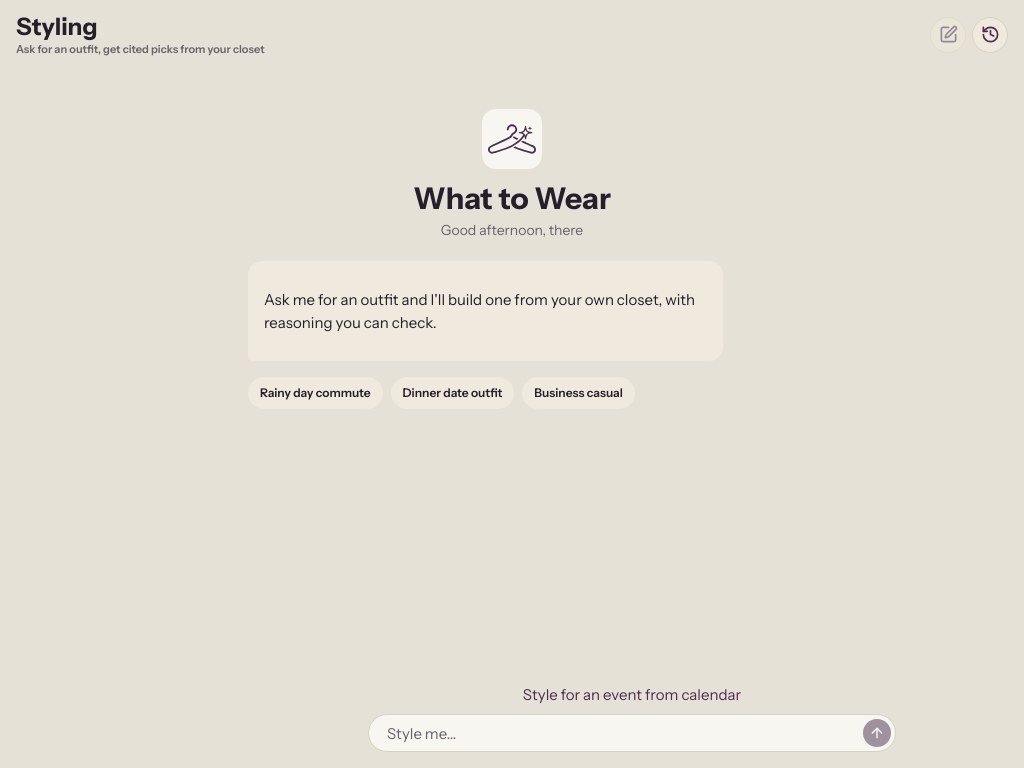
Scenario: RecommendPage › New chat becomes enabled after a message is sent, and resets the thread on click
The width and height of the screenshot is (1024, 768).
Type "business casual" into the field named "Message".
click(620, 733); type("business casual")  # box [385,722,855,744]
Then press Enter
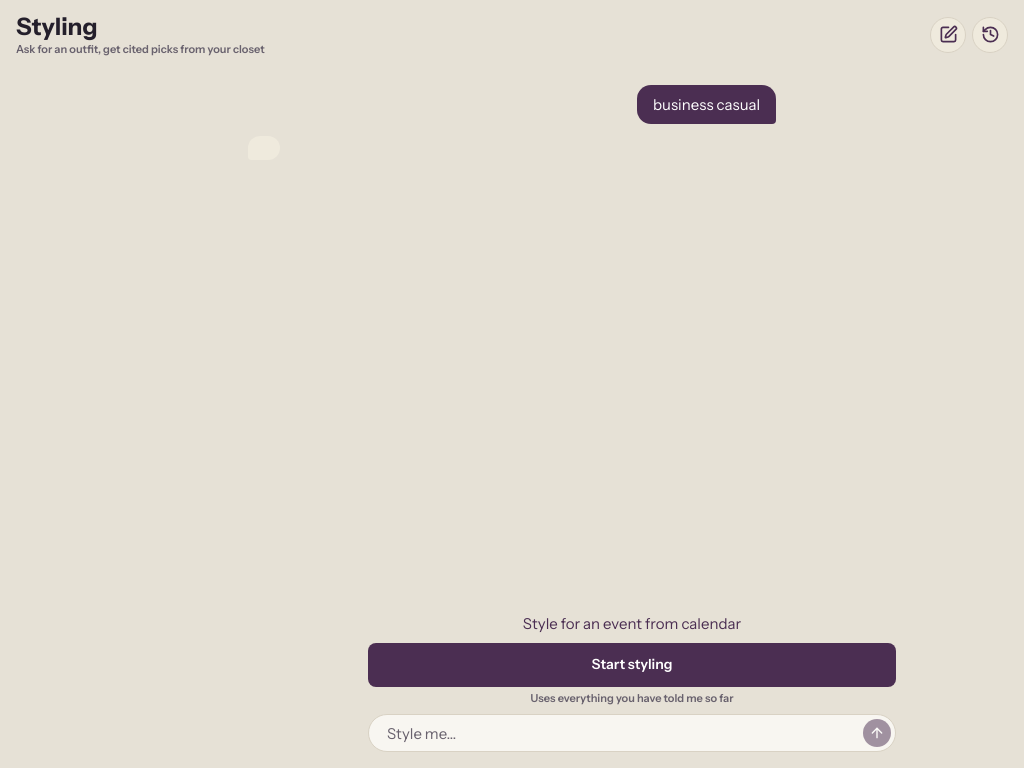
Check: the button named "New chat" is enabled, box [930,16,966,52]
Click the button "Start styling".
click(632, 665)  # box [368,643,896,687]
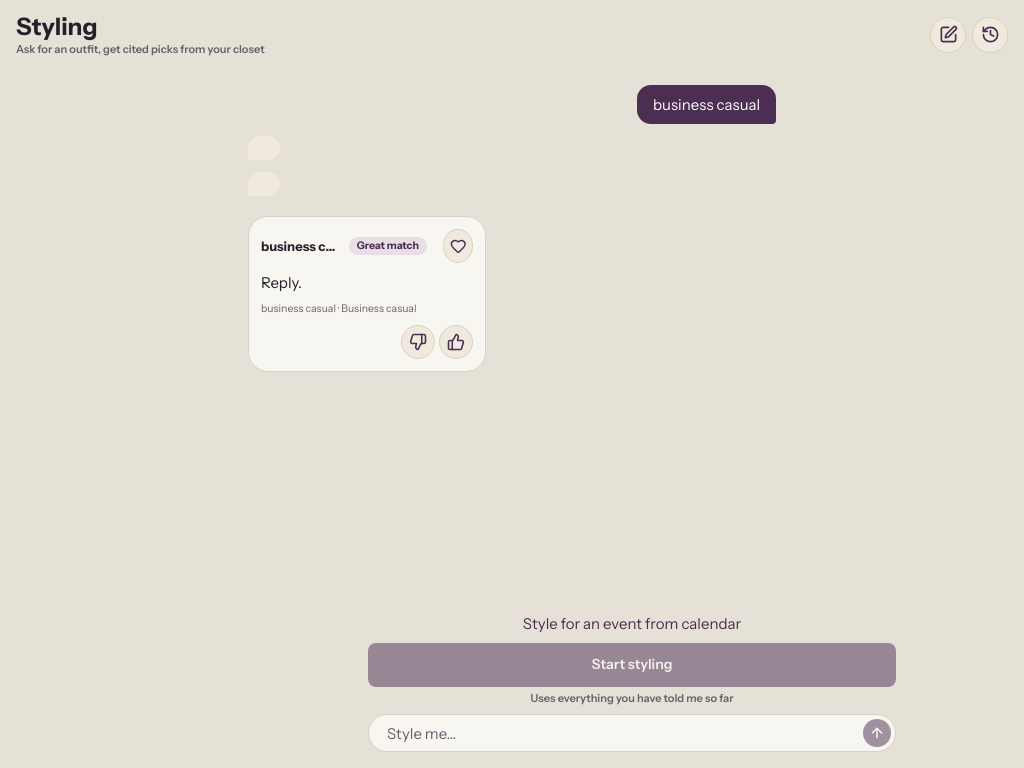
Check: the text "Reply." is shown, box [261,273,302,292]
Click the button named "New chat".
click(948, 34)  # box [930,16,966,52]
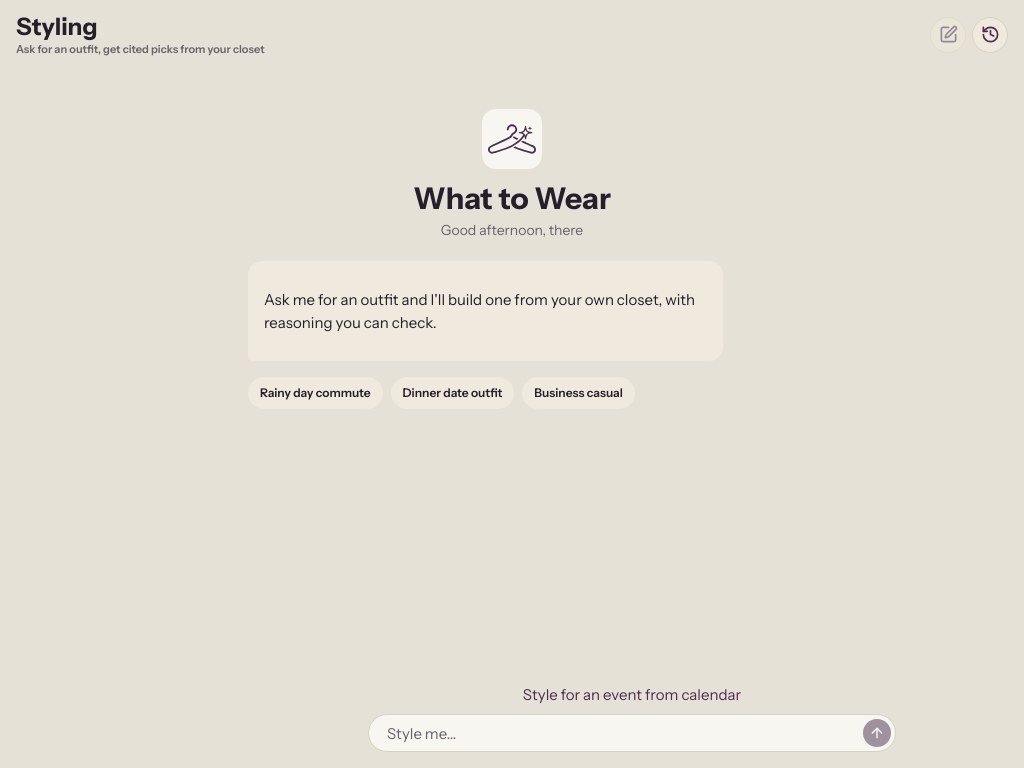
Check: the text "What to Wear" is shown, box [413,181,611,217]
Check: the button named "New chat" is disabled, box [930,16,966,52]
